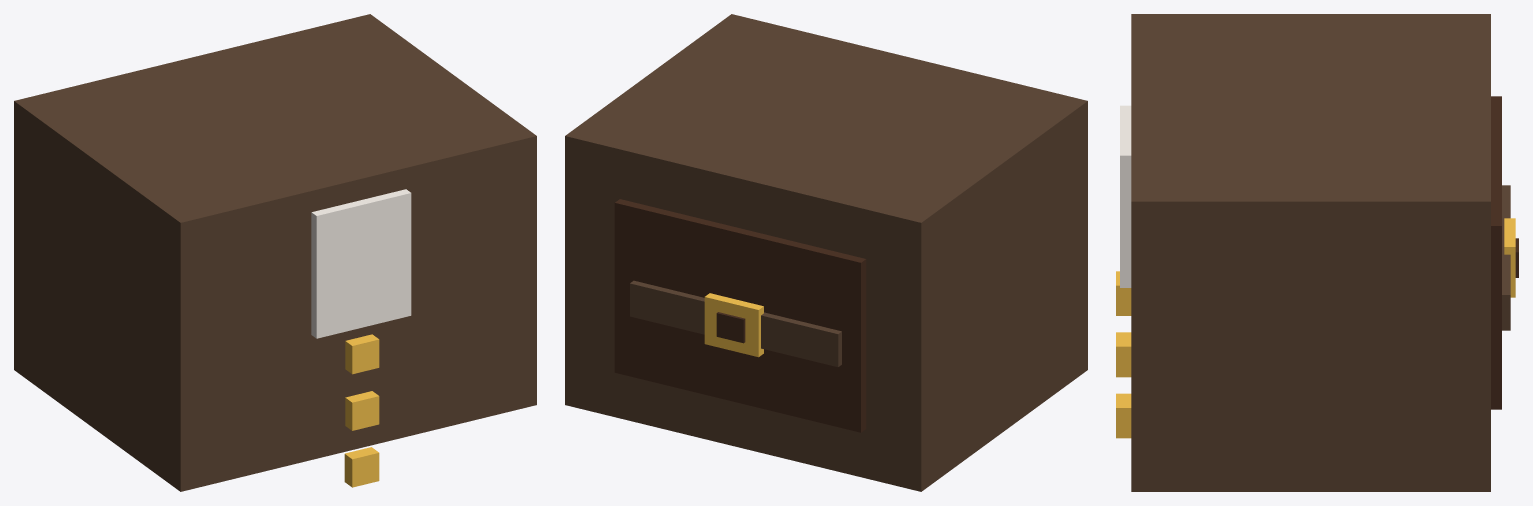
File: CatCafe_Accessory_Vest.fbx
3 views of the same model, side by side, from view 1: azimuth 30°, elevation 25°; view 2: azimuth 150°, elevation 25°; view 3: azimuth 270°, elevation 25° (orthographic). The views are drawn at different scales.
Visible parts, largest first — view 1: CatCafe_Accessory_Vest; view 2: CatCafe_Accessory_Vest; view 3: CatCafe_Accessory_Vest.
Part boxes in pixels (left/top/right/bottom): CatCafe_Accessory_Vest: left=14, top=14, right=536, bottom=491; CatCafe_Accessory_Vest: left=565, top=14, right=1087, bottom=491; CatCafe_Accessory_Vest: left=1116, top=14, right=1518, bottom=491.
Bounding box in the file's own units: 0.7505 × 0.6033 × 0.6811.
Materials: 1 (1 with a texture image).
